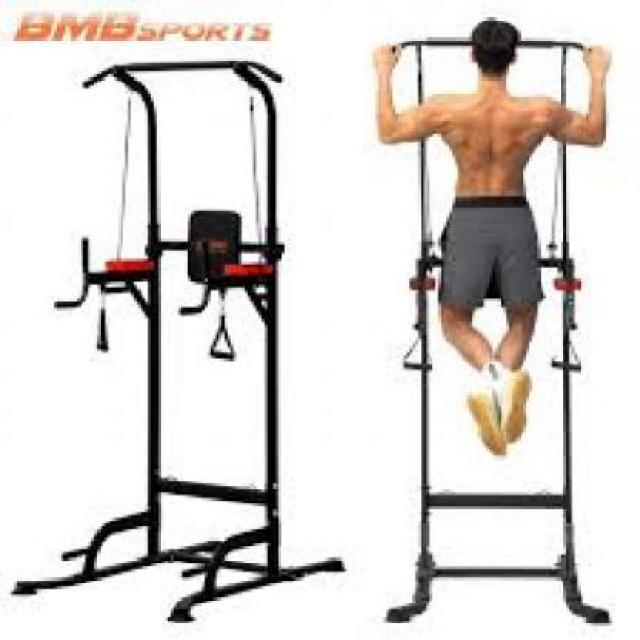chinning dipping: (11, 56, 344, 622), (369, 37, 620, 625)
